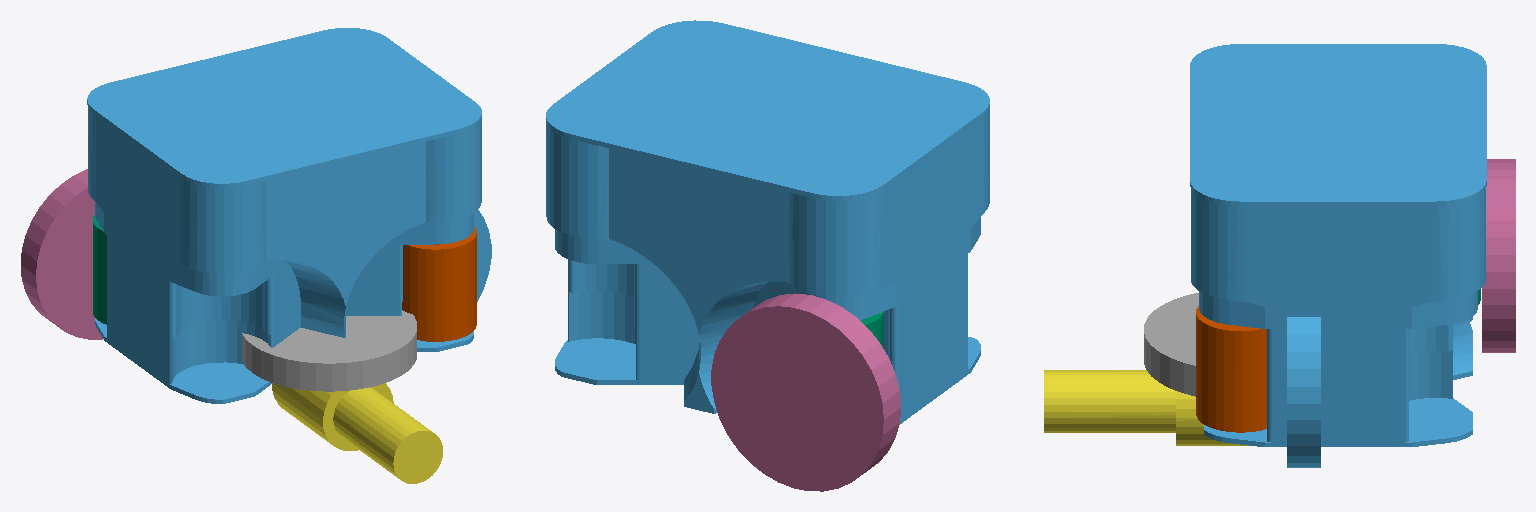
robot.urdf — robeert:
<?xml version="1.0" encoding="utf-8"?>
<robot name="robeert">
    <material name="white">
        <color rgba="1 1 1"/>
    </material>

    <material name="blue">
        <color rgba="0 0.1 0.9"/>
    </material>

    <material name="red">
        <color rgba="0.9 0.1 0"/>
    </material>

    <link name="base_link"/>
    <link name="base_tilt_link">
        <visual>
            <origin xyz="0 0 0" rpy="0 0 0"/>
            <geometry>
                <mesh filename="package://meshes/body.stl"/>
            </geometry>
            <material name="blue"/>
        </visual>
        <collision>
            <origin xyz="0 0 0" rpy="0 0 0"/>
            <geometry>
                <mesh filename="package://meshes/body.stl"/>
            </geometry>
        </collision>
        <inertial>
            <origin rpy="0 0 0" xyz="0.0 0.0 0.0"/>
            <mass value="1.0"/>
            <inertia ixx="0.005" ixy="0.005" ixz="0.005" iyy="0.005" iyz="0.005" izz="0.005"/>
        </inertial>
    </link>

    <link name="module_1">  <!-- back left -->
        <visual>
            <origin xyz="0 0 0" rpy="0 0 0"/>
            <geometry>
                <mesh filename="package://meshes/motor.stl"/>
            </geometry>
            <material name="red"/>
        </visual>
    </link>

    <link name="module_2">  <!-- back right -->
        <visual>
            <origin xyz="0 0 0" rpy="0 0 0"/>
            <geometry>
                <mesh filename="package://meshes/motor.stl"/>
            </geometry>
            <material name="red"/>
        </visual>
    </link>

    <link name="module_3">  <!-- front left -->
        <visual>
            <origin xyz="0 0 0" rpy="0 0 0"/>
            <geometry>
                <mesh filename="package://meshes/motor.stl"/>
            </geometry>
            <material name="red"/>
        </visual>
    </link>

    <link name="module_4">  <!-- front right -->
        <visual>
            <origin xyz="0 0 0" rpy="0 0 0"/>
            <geometry>
                <mesh filename="package://meshes/motor.stl"/>
            </geometry>
            <material name="red"/>
        </visual>
    </link>

    <link name="wheel_1">  <!-- back left -->
        <visual>
            <origin xyz="0 0 0" rpy="0 0 0"/>
            <geometry>
                <mesh filename="package://meshes/wheel.stl"/>
            </geometry>
            <material name="white"/>
        </visual>
        <collision>
            <origin xyz="0 0 0" rpy="0 0 0"/>
            <geometry>
                <mesh filename="package://meshes/wheel.stl"/>
            </geometry>
        </collision>
        <inertial>
            <origin rpy="0 0 0" xyz="0 0 0"/>
            <mass value="0.05"/>
            <inertia ixx="0.0045" ixy="0" ixz="0" iyy="0.005" iyz="0" izz="0.0045"/>
        </inertial>
    </link>

    <link name="wheel_2">  <!-- back right -->
        <visual>
            <origin xyz="0 0 0" rpy="0 0 0"/>
            <geometry>
                <mesh filename="package://meshes/wheel.stl"/>
            </geometry>
            <material name="white"/>
        </visual>
        <collision>
            <origin xyz="0 0 0" rpy="0 0 0"/>
            <geometry>
                <mesh filename="package://meshes/wheel.stl"/>
            </geometry>
        </collision>
        <inertial>
            <origin rpy="0 0 0" xyz="0 0 0"/>
            <mass value="0.05"/>
            <inertia ixx="0.0045" ixy="0" ixz="0" iyy="0.005" iyz="0" izz="0.0045"/>
        </inertial>
    </link>

    <link name="wheel_3">  <!-- front left -->
        <visual>
            <origin xyz="0 0 0" rpy="0 0 0"/>
            <geometry>
                <mesh filename="package://meshes/wheel.stl"/>
            </geometry>
            <material name="white"/>
        </visual>
        <collision>
            <origin xyz="0 0 0" rpy="0 0 0"/>
            <geometry>
                <mesh filename="package://meshes/wheel.stl"/>
            </geometry>
        </collision>
        <inertial>
            <origin rpy="0 0 0" xyz="0 0 0"/>
            <mass value="0.05"/>
            <inertia ixx="0.0045" ixy="0" ixz="0" iyy="0.005" iyz="0" izz="0.0045"/>
        </inertial>
    </link>

    <link name="wheel_4">  <!-- front right -->
        <visual>
            <origin xyz="0 0 0" rpy="0 0 0"/>
            <geometry>
                <mesh filename="package://meshes/wheel.stl"/>
            </geometry>
            <material name="white"/>
        </visual>
        <collision>
            <origin xyz="0 0 0" rpy="0 0 0"/>
            <geometry>
                <mesh filename="package://meshes/wheel.stl"/>
            </geometry>
        </collision>
        <inertial>
            <origin rpy="0 0 0" xyz="0 0 0"/>
            <mass value="0.05"/>
            <inertia ixx="0.0045" ixy="0" ixz="0" iyy="0.005" iyz="0" izz="0.0045"/>
        </inertial>
    </link>



    <joint name="base_joint" type="fixed">
        <parent link="base_link"/>
        <child link="base_tilt_link"/>
    </joint>

    <joint name="base_link_to_module_1_joint" type="revolute">
        <parent link="base_tilt_link"/>
        <child link="module_1"/>  <!-- back left -->
        <origin xyz="-0.08  0.0575  0.0"/>
        <axis xyz="0 0 1"/>
    </joint>

    <joint name="base_link_to_module_2_joint" type="revolute">
        <parent link="base_tilt_link"/>
        <child link="module_2"/>  <!-- back right -->
        <origin xyz="-0.08  -0.0575  0.0"/>
        <origin rpy="1.5708  0.0  0.0"/>
        <axis xyz="0 0 1"/>
    </joint>
    
    <joint name="base_link_to_module_3_joint" type="revolute">
        <parent link="base_tilt_link"/>
        <child link="module_3"/>  <!-- front left -->
        <origin xyz="0.08  0.0575  0.0"/>
        <origin rpy="1.5708  0.0  0.0"/>
        <axis xyz="0 0 1"/>
    </joint>

    <joint name="base_link_to_module_4_joint" type="revolute">
        <parent link="base_tilt_link"/>
        <child link="module_4"/>  <!-- front right -->
        <origin xyz="0.08  -0.0575  0.0"/>
        <axis xyz="0 0 1"/>
    </joint>


    <joint name="module_to_wheel_1_joint" type="continuous">
        <parent link="module_1"/>
        <child link="wheel_1"/>  <!-- back left -->
        <origin xyz="0.0  0.037  0.0575" rpy="1.5708 1.5708 0.0"/>
        <axis xyz="0 0 1"/>
    </joint>

    <joint name="module_to_wheel_2_joint" type="continuous">
        <parent link="module_2"/>
        <child link="wheel_2"/>  <!-- back right -->
        <origin xyz="0.0  0.037  0.0575" rpy="1.5708 1.5708 0.0"/>
        <axis xyz="0 0 1"/>
    </joint>
    
    <joint name="module_to_wheel_3_joint" type="continuous">
        <parent link="module_3"/>
        <child link="wheel_3"/>  <!-- front left -->
        <origin xyz="0.0  0.037  0.0575" rpy="1.5708 1.5708 0.0"/>
        <axis xyz="0 0 1"/>
    </joint>

    <joint name="module_to_wheel_4_joint" type="continuous">
        <parent link="module_4"/>
        <child link="wheel_4"/>  <!-- front right -->
        <origin xyz="0.0  0.037  0.0575" rpy="1.5708 1.5708 0.0"/>
        <axis xyz="0 0 1"/>
    </joint>
</robot>

--- Facts derived from the render (not from the file) ---
3 views of the same robot in one strip: view 1: azimuth 30°, elevation 25°; view 2: azimuth 150°, elevation 25°; view 3: azimuth 270°, elevation 25° (orthographic).
Model robeert with 10 links and 9 joints (4 revolute, 4 continuous, 1 fixed), rooted at base_link, posed all joints at 0.
Visible links, largest first — view 1: base_tilt_link, wheel_2, wheel_1, module_2, module_4, module_1, wheel_4; view 2: base_tilt_link, wheel_1; view 3: base_tilt_link, module_2, module_4, wheel_1, wheel_4, wheel_2.
Boxes of the visible links, x1,y1,x2,y2 form: base_tilt_link: (87,28,481,403); wheel_2: (242,310,416,391); wheel_1: (21,169,102,339); module_2: (272,383,442,483); module_4: (402,227,476,341); module_1: (93,215,106,324); wheel_4: (474,210,491,301); base_tilt_link: (546,20,989,423); wheel_1: (711,293,900,491); base_tilt_link: (1190,44,1486,446); module_2: (1044,370,1248,445); module_4: (1196,306,1266,432); wheel_1: (1482,159,1515,352); wheel_4: (1287,317,1320,467); wheel_2: (1144,293,1198,396).
Bounding box of the posed robot: 0.2748 × 0.2779 × 0.208 m (x, y, z).
9 mesh visuals loaded from 3 distinct referenced files (3 binary STL).
